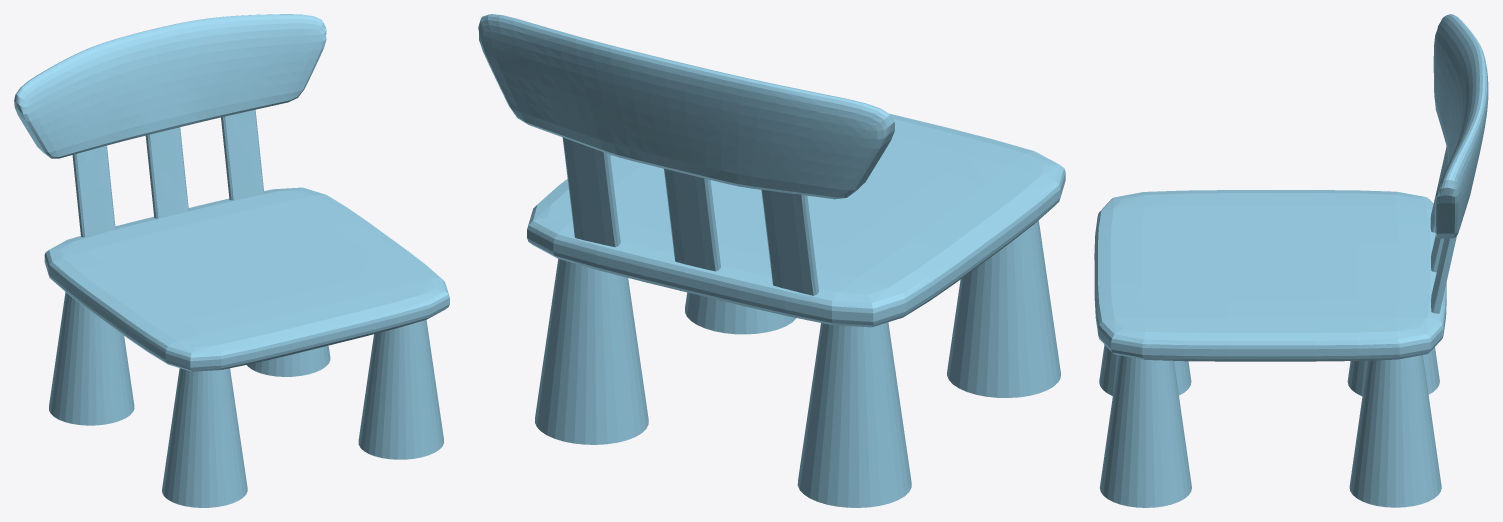
The model's file is sh-bsby-child-chair.glb.
3 views of the same model, side by side, from view 1: azimuth 30°, elevation 25°; view 2: azimuth 150°, elevation 25°; view 3: azimuth 270°, elevation 25° (orthographic). The views are drawn at different scales.
Parts seen in each view (by area): view 1: Child_chair_plane_Plane.026; view 2: Child_chair_plane_Plane.026; view 3: Child_chair_plane_Plane.026.
Boxes of the visible parts, box(x1,y1,x2,y2) form: Child_chair_plane_Plane.026: box(14, 14, 449, 507); Child_chair_plane_Plane.026: box(478, 14, 1065, 507); Child_chair_plane_Plane.026: box(1094, 14, 1488, 507).
Bounding box in the file's own units: 1 × 1 × 1.
